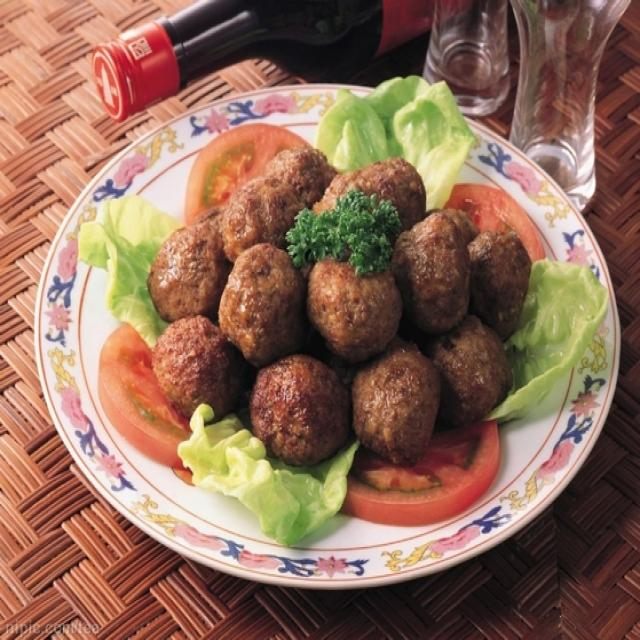Meatball: (133, 136, 551, 481)
